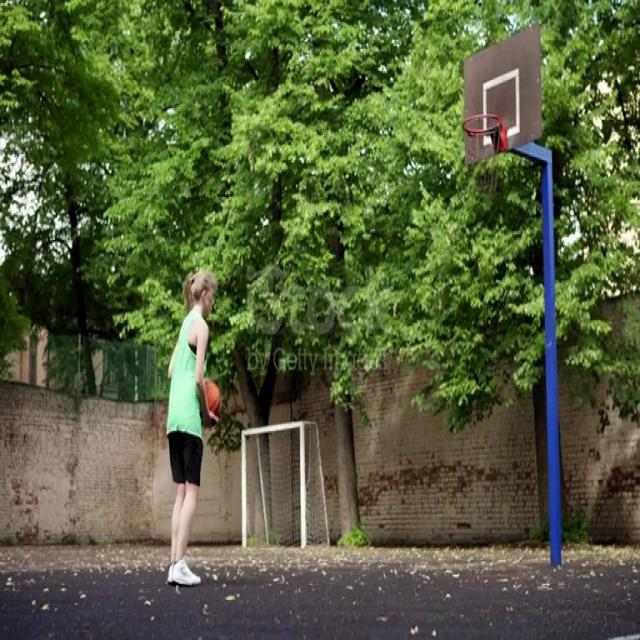ball: (202, 378, 222, 422)
